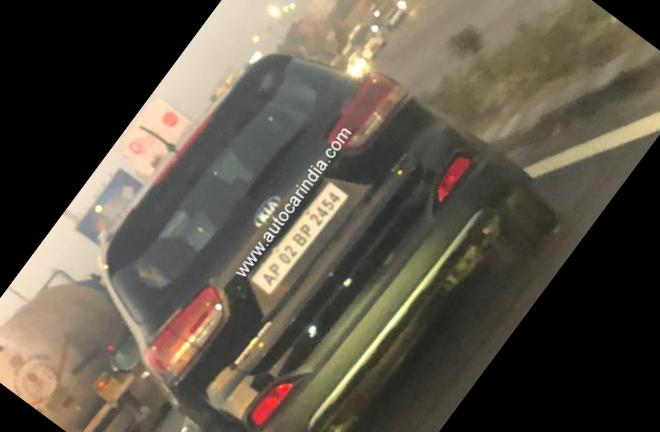plate: (238, 152, 370, 305)
